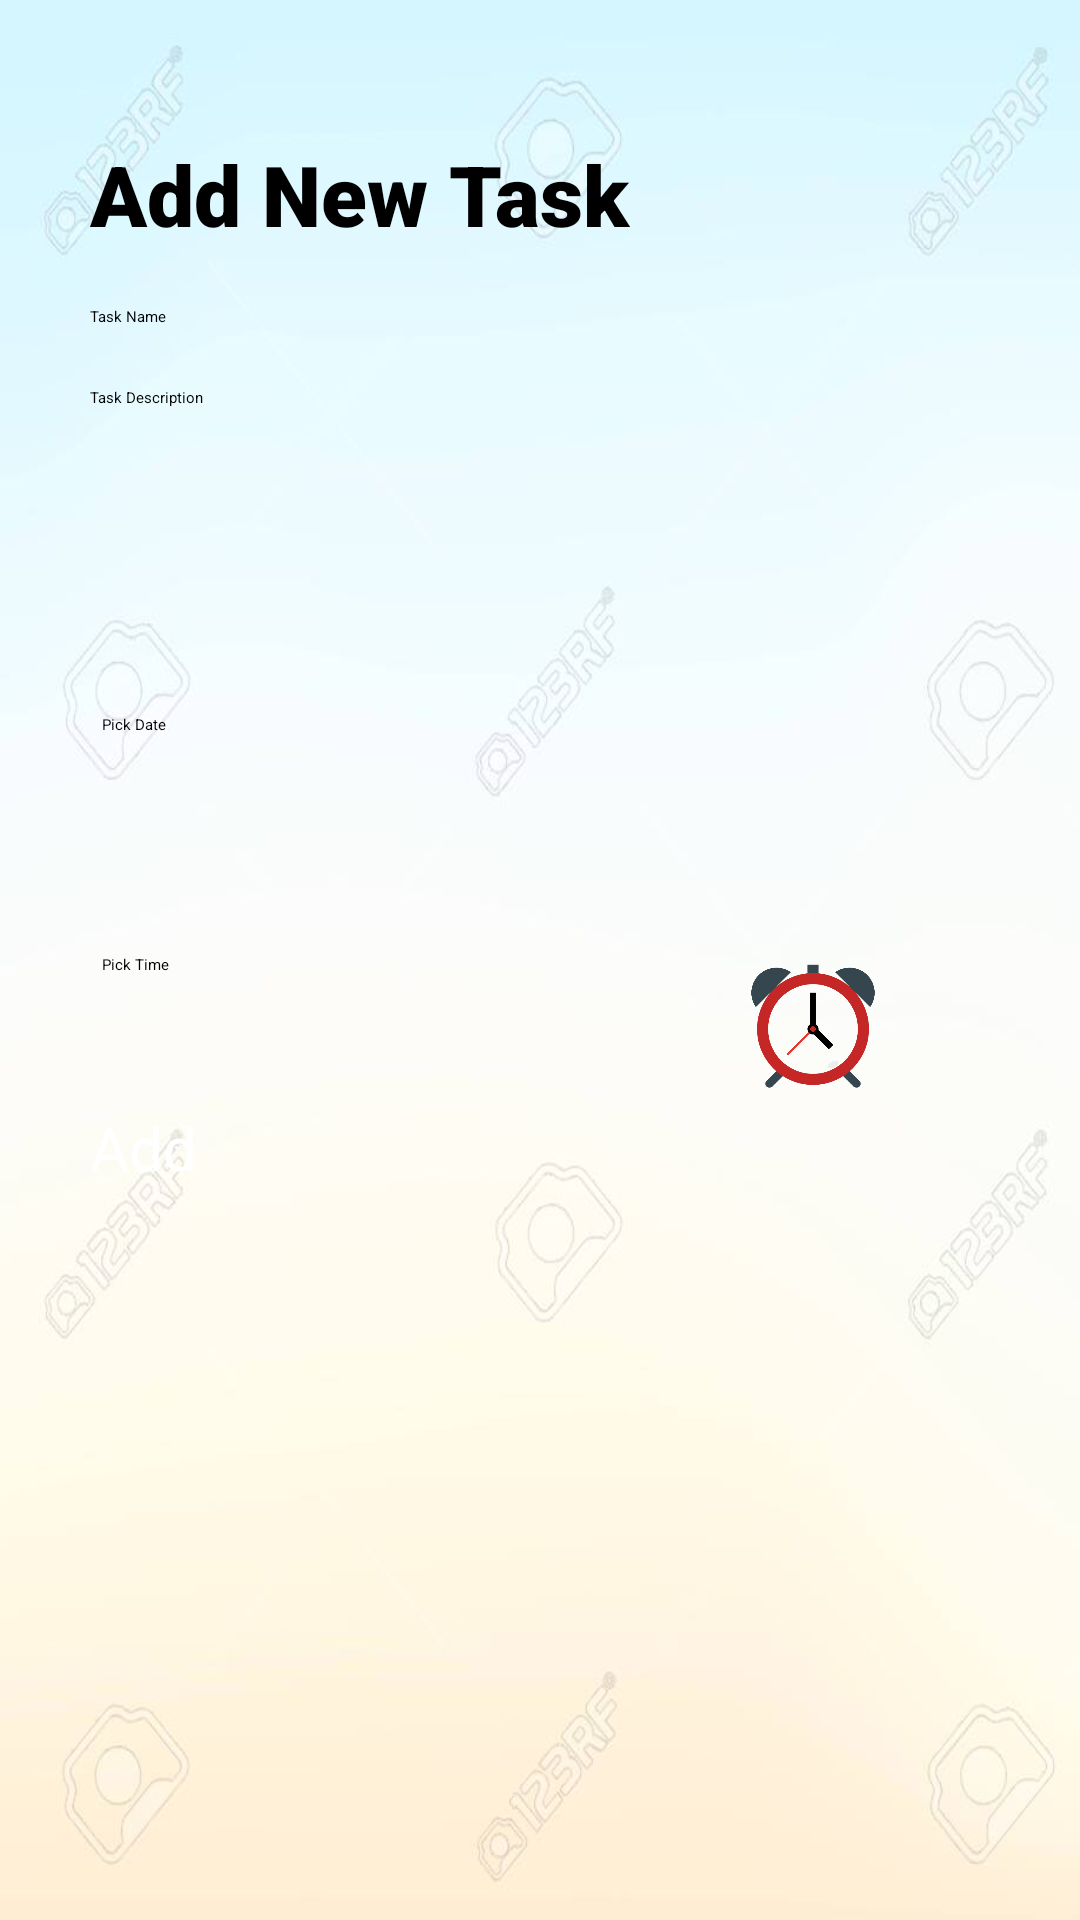

Where icons sit on this 1080×1920 app screen, as (x1, y1, x2, y2):
alarmicon: (751, 964, 875, 1088)
